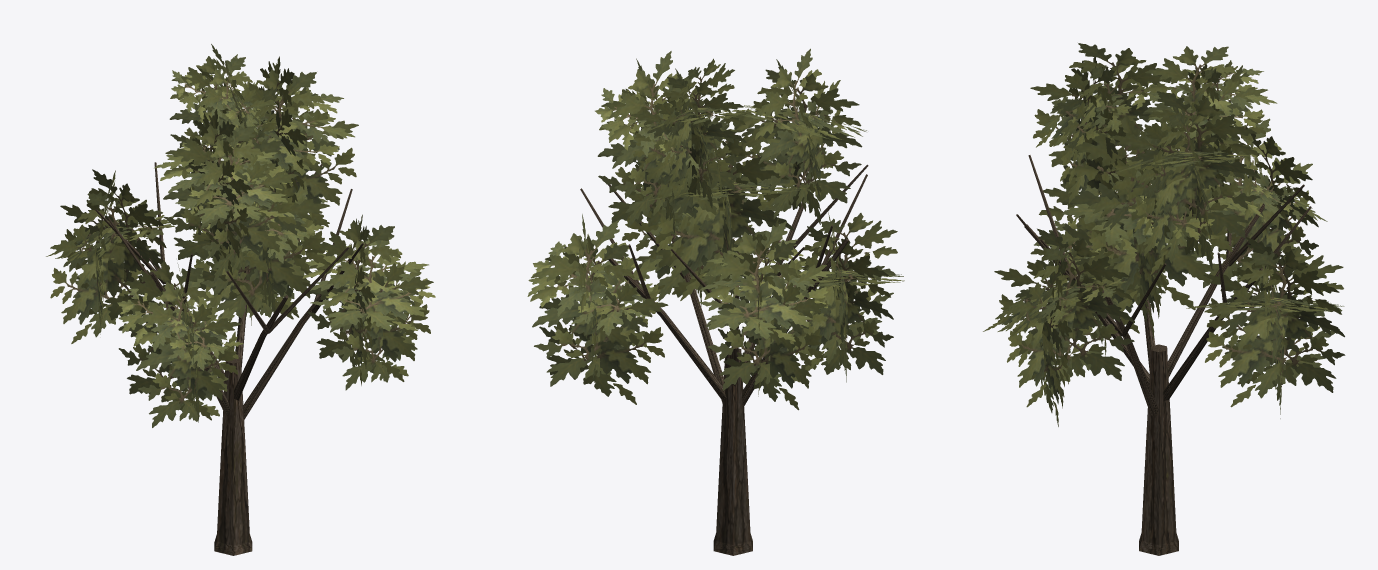
File: tree_01.glb
3 views of the same model, side by side, from view 1: azimuth 30°, elevation 25°; view 2: azimuth 150°, elevation 25°; view 3: azimuth 270°, elevation 25° (orthographic). The views are drawn at different scales.
Visible parts, largest first — view 1: outdoor_tree_01; view 2: outdoor_tree_01; view 3: outdoor_tree_01.
Part boxes in pixels (x1,y1,x2,y2): outdoor_tree_01: (46, 44, 435, 555); outdoor_tree_01: (527, 48, 904, 555); outdoor_tree_01: (983, 43, 1345, 555).
Size of the model in its own units: 4.6 by 6.4 by 4.6.
3 materials, 3 textured.
